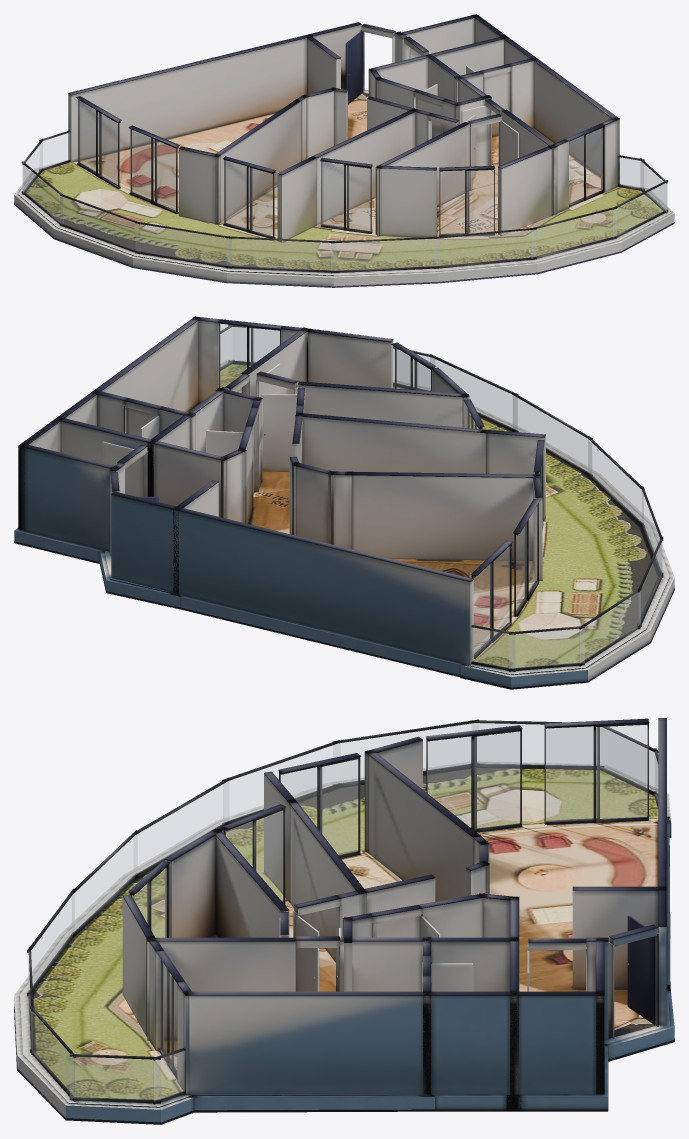
The picture shows the model from 3 angles, top to bottom: view 1: azimuth 30°, elevation 25°; view 2: azimuth 150°, elevation 25°; view 3: azimuth 270°, elevation 25°; orthographic projection. The views are drawn at different scales.
Parts seen in each view (by area): view 1: plan, glass4_m, glass3_m, glass2_m, railg5_m, railg6_m, railg4_m, glass1_m, railg7_m, glass0_m, railg3_m, railg8_m (+7 smaller); view 2: plan, railg10_m, railg5_m, glass0_m, glass5_m, railg9_m, railg4_m, railg6_m, railg11_m, glass1_m, railg2_m, glass4_m (+3 smaller); view 3: plan, glass0_m, glass1_m, glass2_m, railg9_m, railg6_m, railg1_m, railg7_m, railg8_m, glass3_m, railg5_m, railg10_m (+5 smaller).
Part boxes in pixels (<box>): plan: <box>14,14,674,287</box>; glass4_m: <box>439,170,493,234</box>; glass3_m: <box>321,161,370,231</box>; glass2_m: <box>224,160,274,236</box>; railg5_m: <box>331,239,439,270</box>; railg6_m: <box>227,238,335,270</box>; railg4_m: <box>434,230,536,266</box>; glass1_m: <box>130,129,175,210</box>; railg7_m: <box>136,223,231,266</box>; glass0_m: <box>78,100,119,186</box>; railg3_m: <box>531,209,616,257</box>; railg8_m: <box>60,196,140,251</box>; plan: <box>14,316,674,689</box>; railg10_m: <box>509,628,584,668</box>; railg5_m: <box>513,395,591,474</box>; glass0_m: <box>473,547,509,655</box>; glass5_m: <box>219,324,279,392</box>; railg9_m: <box>579,591,640,663</box>; railg4_m: <box>430,357,517,430</box>; railg6_m: <box>588,439,643,524</box>; railg11_m: <box>472,628,515,668</box>; glass1_m: <box>516,507,536,614</box>; railg2_m: <box>233,327,279,362</box>; glass4_m: <box>394,347,430,390</box>; plan: <box>14,718,674,1124</box>; glass0_m: <box>545,725,647,821</box>; glass1_m: <box>427,731,519,828</box>; glass2_m: <box>280,759,357,855</box>; railg9_m: <box>472,723,592,765</box>; railg6_m: <box>134,781,228,875</box>; railg1_m: <box>70,1057,160,1100</box>; railg7_m: <box>223,743,339,822</box>; railg8_m: <box>333,723,478,783</box>; glass3_m: <box>225,810,282,901</box>; railg5_m: <box>72,835,136,934</box>; railg10_m: <box>600,727,657,793</box>.
Bounding box in the file's own units: 17.07 × 2.62 × 13.66.
2 materials, 1 textured.
